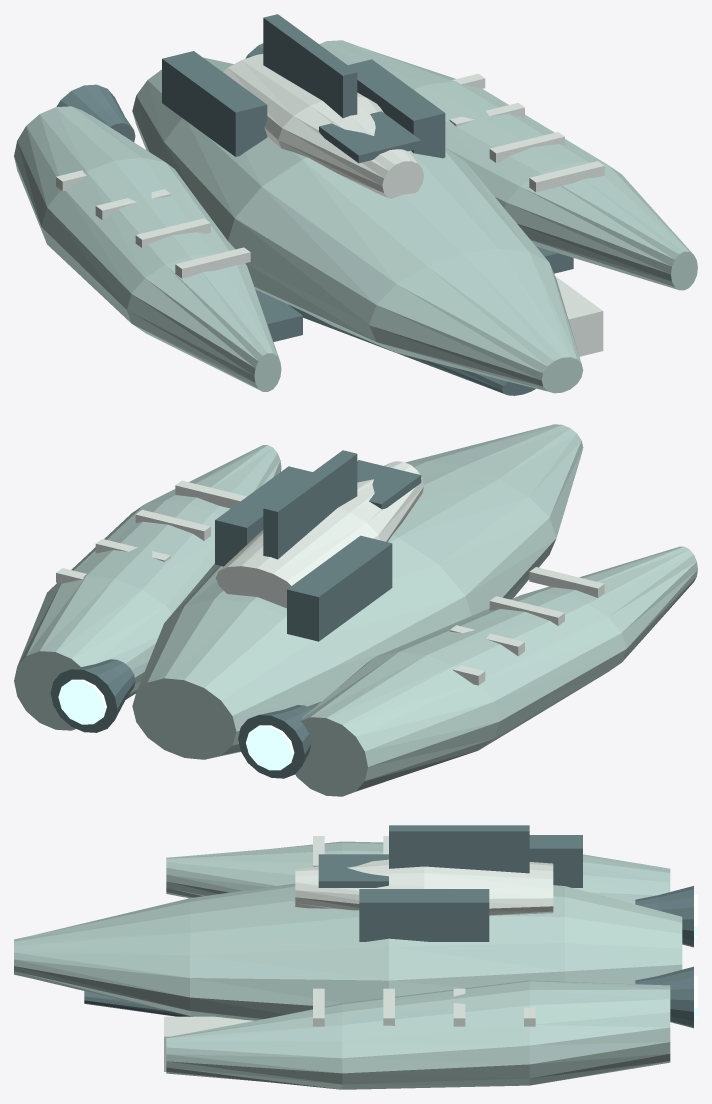
The picture shows the model from 3 angles, top to bottom: view 1: azimuth 30°, elevation 25°; view 2: azimuth 150°, elevation 25°; view 3: azimuth 270°, elevation 25°; orthographic projection. The views are drawn at different scales.
Bounding box in the file's own units: 9.41 × 4.02 × 12.62.
